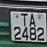2: (37, 25, 46, 44), (13, 25, 23, 42)
4: (21, 26, 29, 42)
8: (29, 26, 37, 42)
A: (29, 12, 37, 29)
T: (21, 13, 29, 29)
